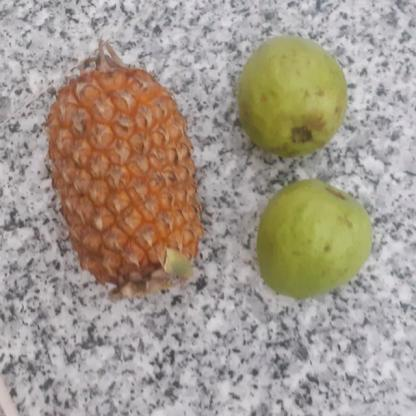guava: (256, 181, 378, 296), (239, 36, 352, 152)
pineapple: (45, 60, 205, 279)
